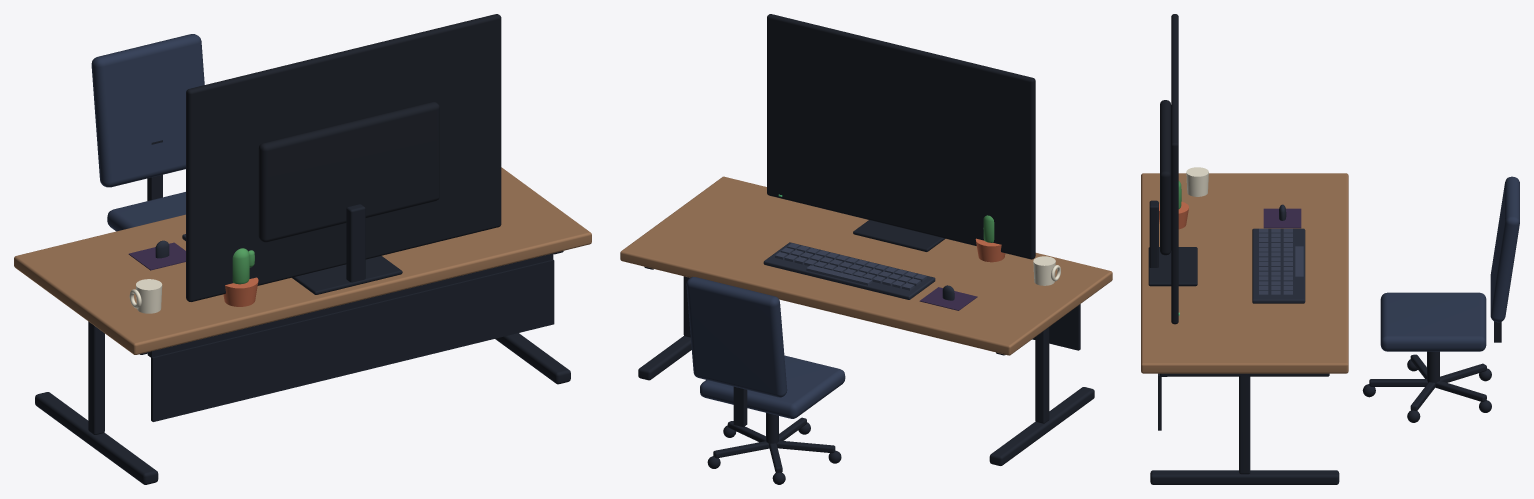
File: desk.glb
3 views of the same model, side by side, from view 1: azimuth 30°, elevation 25°; view 2: azimuth 150°, elevation 25°; view 3: azimuth 270°, elevation 25° (orthographic). The views are drawn at different scales.
Parts seen in each view (by area): view 1: bezel, brace_-1, top, backrest, mug, mousepad, pot, cactus; view 2: bezel, top, backrest, brace_-1, key_0_0, caster_0, keyboard, mug, mousepad, spine; view 3: top, backrest, brace_-1, bezel, caster_0, key_0_0, keyboard, mousepad, mug.
Part boxes in pixels (left/top/right/bottom): bezel: left=186, top=14, right=501, bottom=301; brace_-1: left=35, top=204, right=570, bottom=484; top: left=14, top=167, right=591, bottom=354; backrest: left=91, top=34, right=204, bottom=231; mug: left=129, top=279, right=162, bottom=313; mousepad: left=128, top=242, right=185, bottom=270; pot: left=223, top=277, right=258, bottom=306; cactus: left=232, top=248, right=254, bottom=284; bezel: left=767, top=14, right=1035, bottom=259; top: left=620, top=176, right=1112, bottom=355; backrest: left=686, top=276, right=845, bottom=418; brace_-1: left=638, top=220, right=1094, bottom=465; key_0_0: left=775, top=243, right=926, bottom=290; caster_0: left=707, top=413, right=841, bottom=484; keyboard: left=763, top=242, right=954, bottom=300; mug: left=1033, top=256, right=1060, bottom=285; mousepad: left=919, top=287, right=977, bottom=310; spine: left=733, top=386, right=747, bottom=427; top: left=1141, top=173, right=1348, bottom=373; backrest: left=1380, top=176, right=1519, bottom=351; brace_-1: left=1148, top=200, right=1339, bottom=484; bezel: left=1160, top=14, right=1178, bottom=324; caster_0: left=1362, top=351, right=1491, bottom=422; key_0_0: left=1259, top=228, right=1303, bottom=296; keyboard: left=1252, top=204, right=1305, bottom=303; mousepad: left=1263, top=208, right=1301, bottom=228; mug: left=1186, top=167, right=1208, bottom=196.
Bounding box in the file's own units: 2.4 × 1.86 × 2.01.
